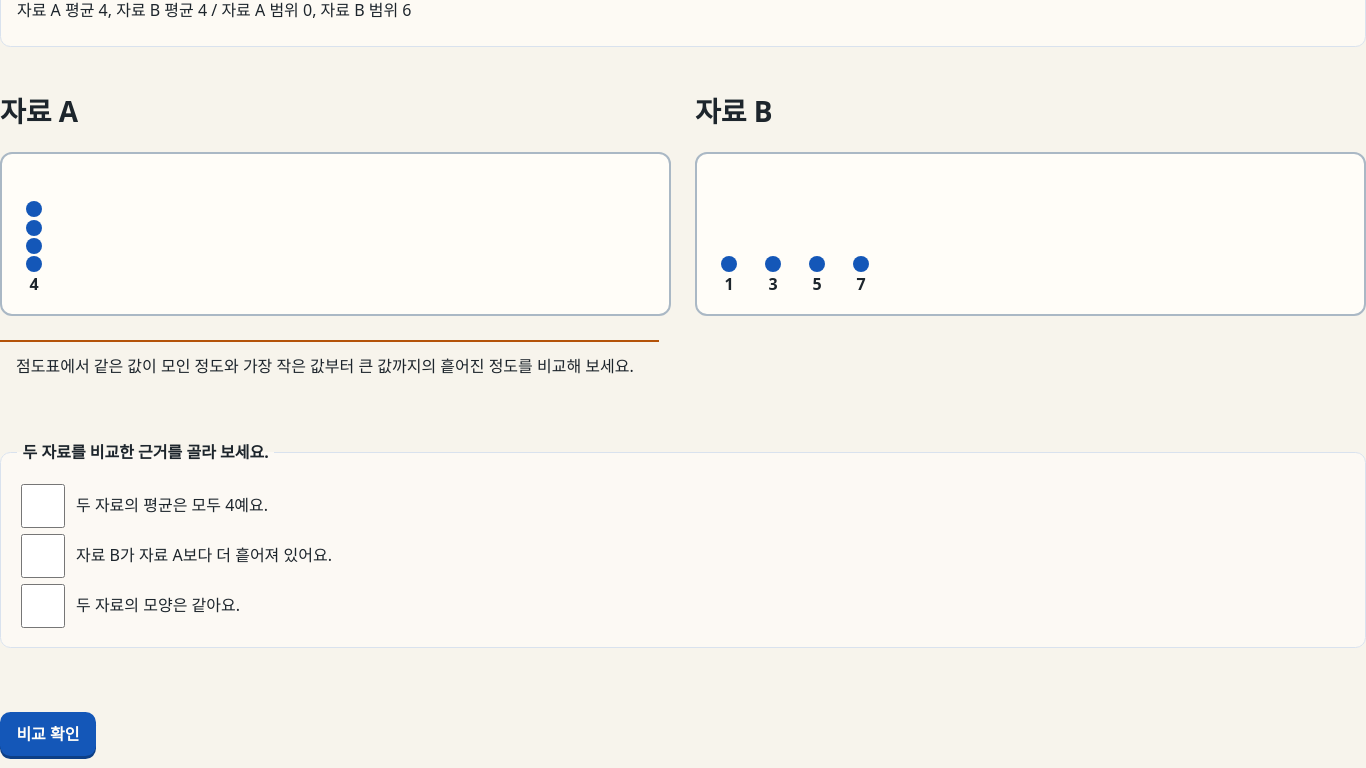
ComparisonPanel › focuses the plot explanation for the same-shape misconception
The width and height of the screenshot is (1366, 768).
(page scrolled)
Click the checkbox labelled "두 자료의 모양은 같아요." at coordinates (43, 606), box [21, 584, 65, 628]
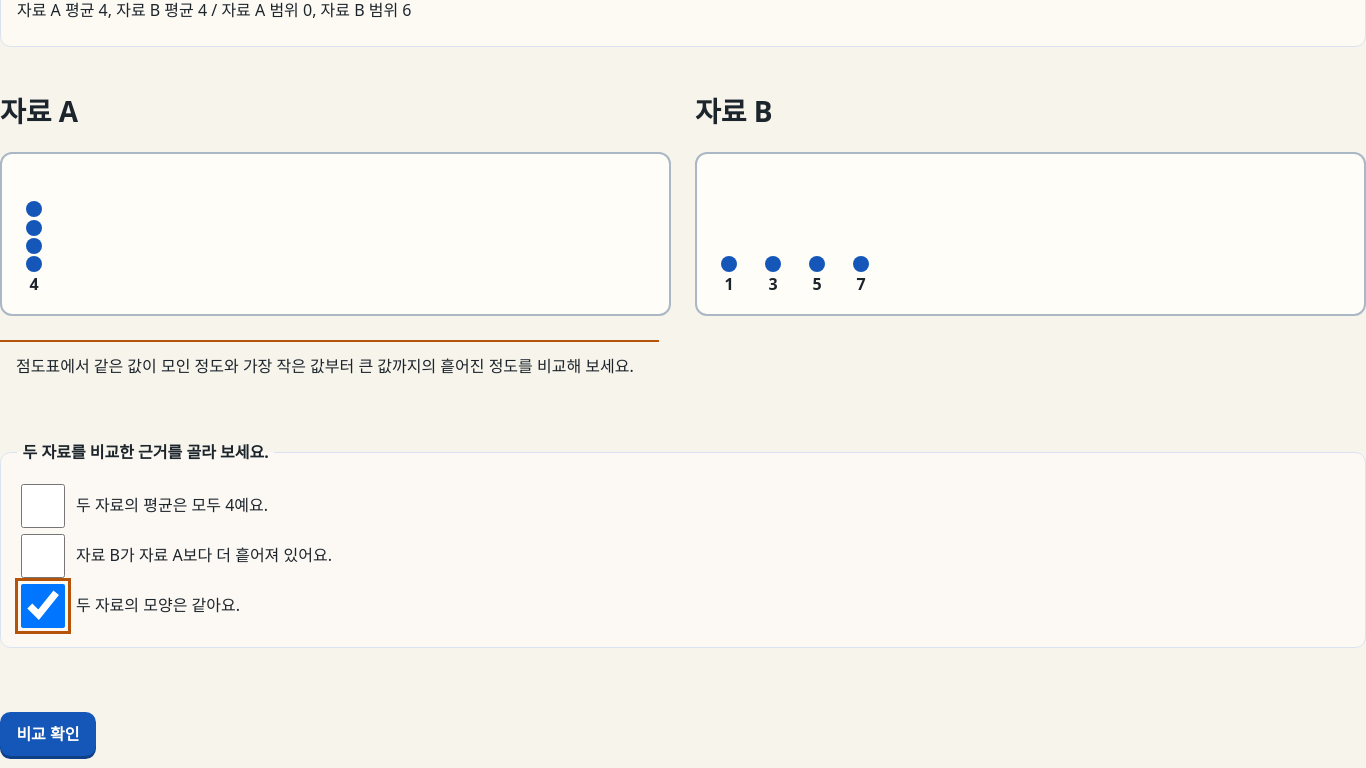
Click the button "비교 확인" at coordinates (48, 734), box [0, 712, 96, 756]
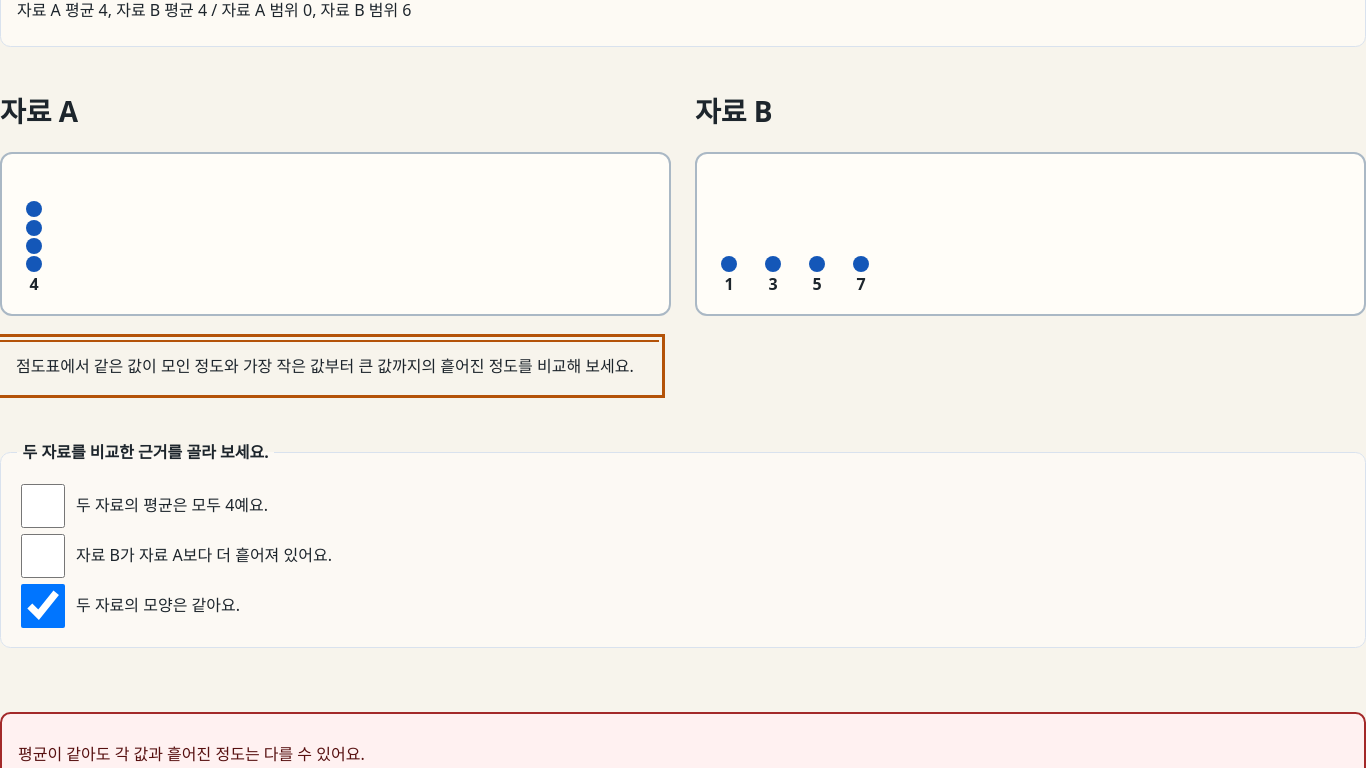
Check: the text "평균이 같아도 각 값과 흩어진 정도는 다를 수 있어요." is shown, box [18, 743, 365, 765]
